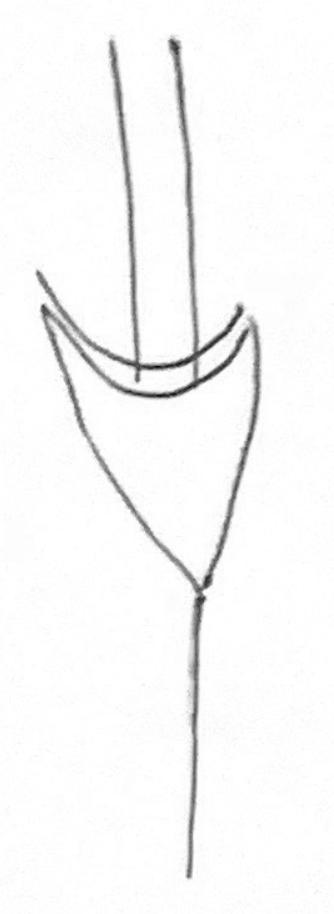XOR: (8, 238, 304, 610)
